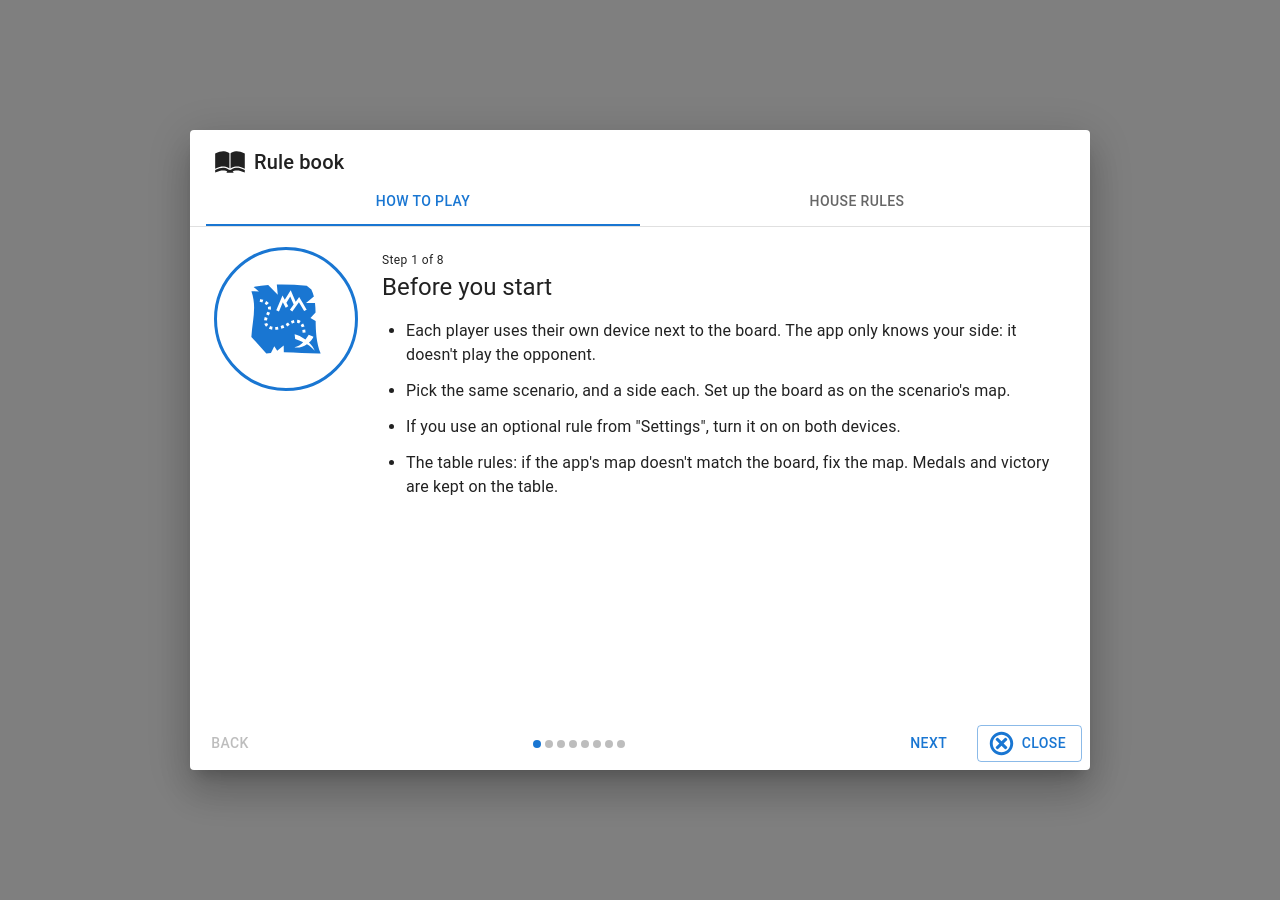
Test: RuleBookDialog › is in English too
The image size is (1280, 900).
Expected: the dialog "Rule book" is shown, [190,130,1090,770]
Expected: the heading "Before you start" is shown, [382,271,552,303]
Click the button "Next" at (929, 744), box [897,725,961,762]
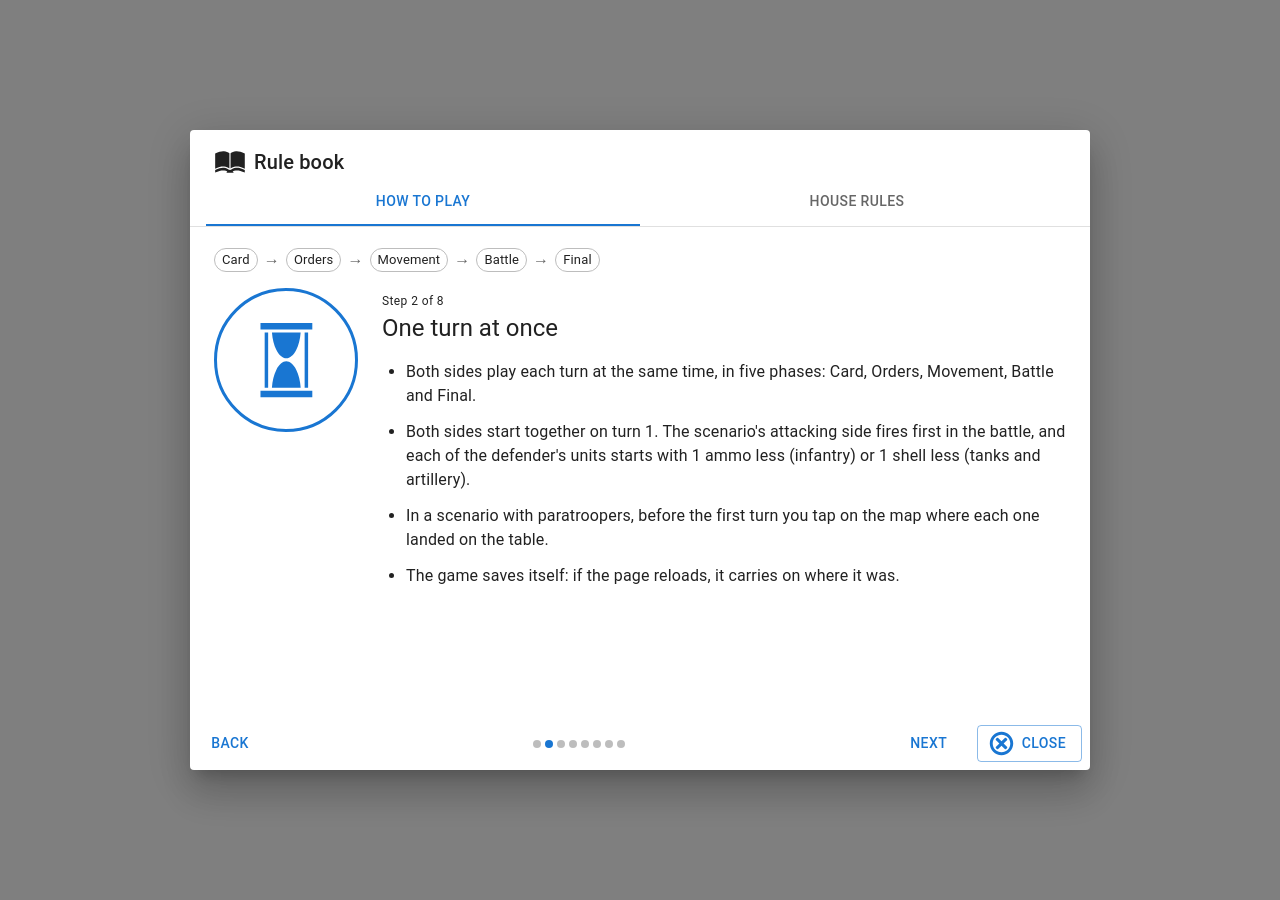
Expected: the text "Step 2 of 8" is shown, [382,294,444,308]
Click the tab "House rules" at (857, 202), box [640,178,1074,226]
(page scrolled)
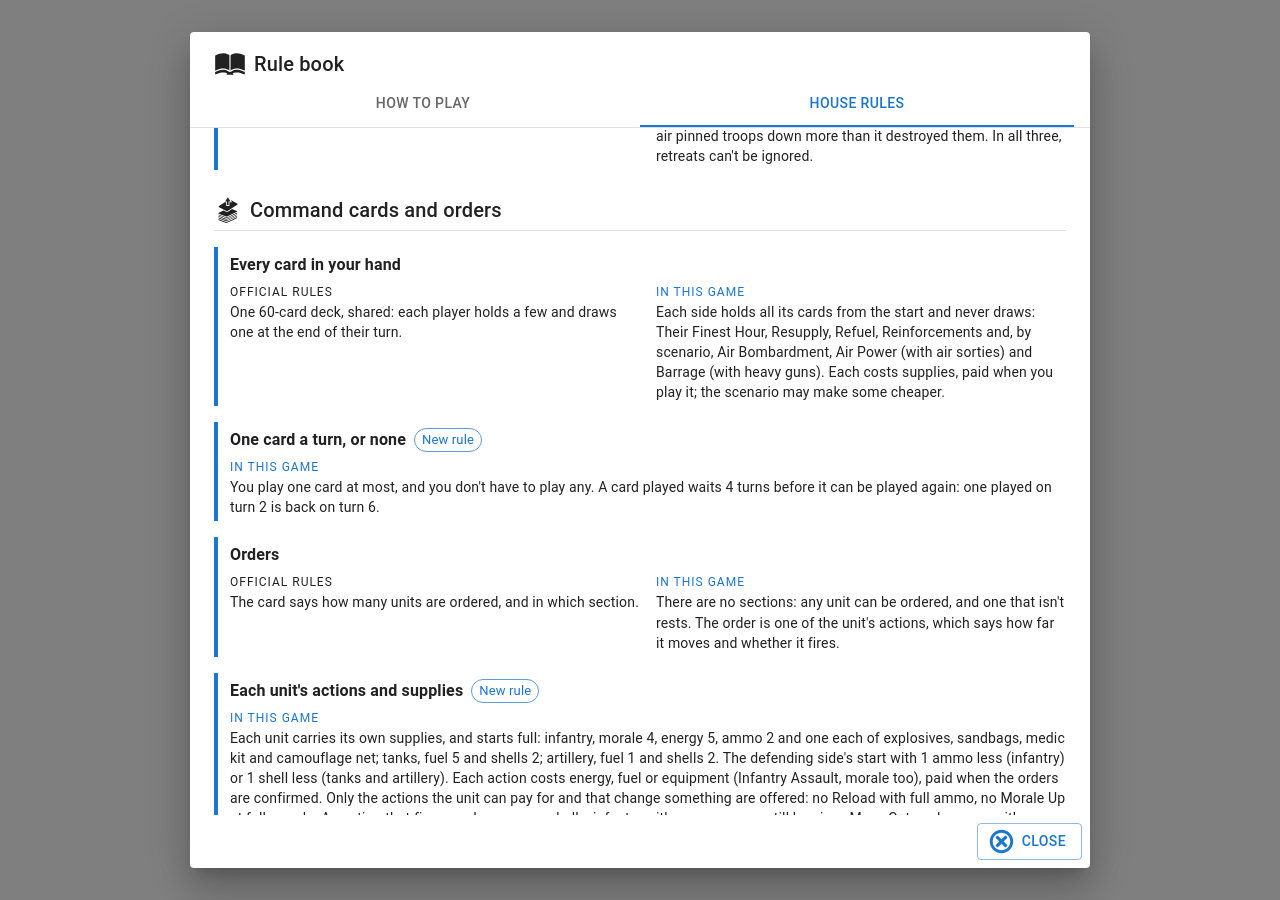
Expected: the element "One card a turn, or none" shows "You play one card at most", [230,479,1052,515]
